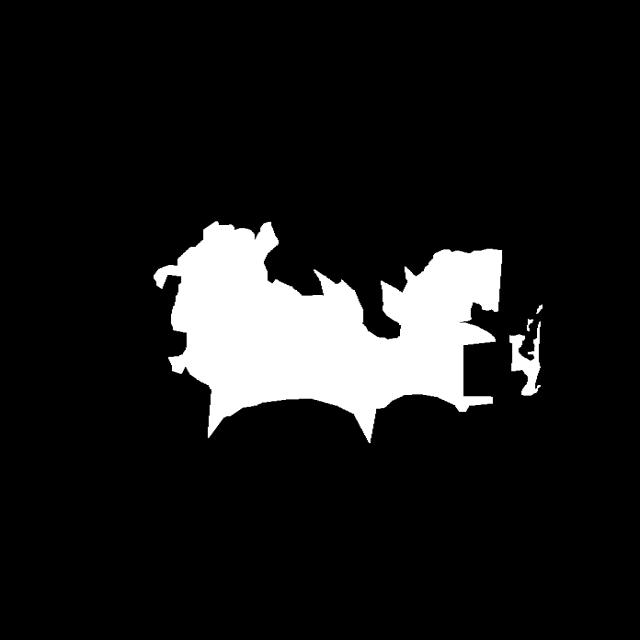fire: (120, 208, 580, 514)
